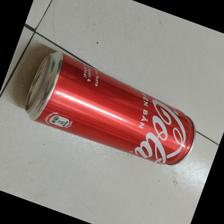Coca: (24, 50, 196, 167)
